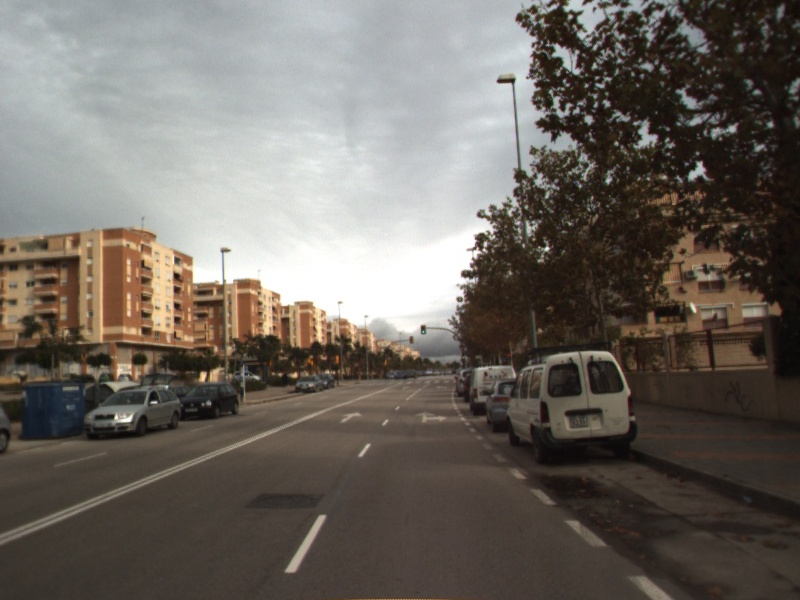STRAIGHT: (338, 409, 364, 425)
STRAIGHT_RIGHT: (413, 409, 450, 425)
